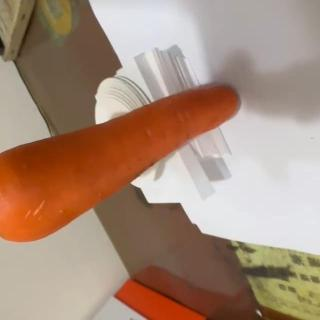carrot: (0, 81, 240, 244)
